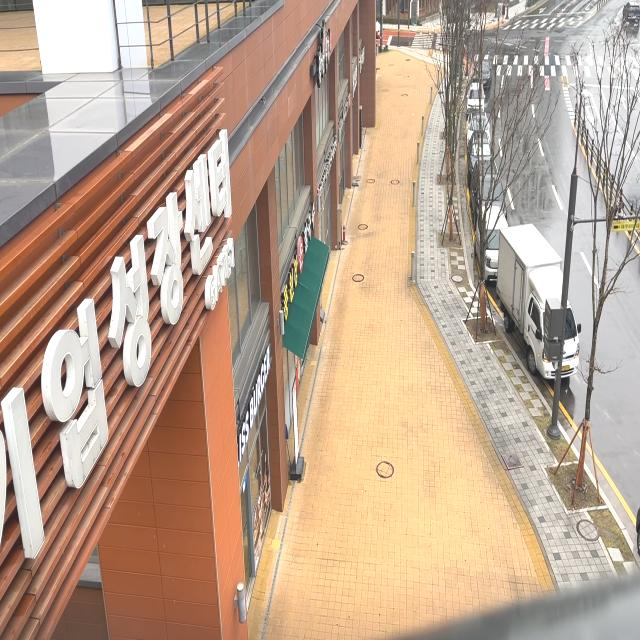Car: (472, 194, 523, 280), (466, 154, 514, 218), (464, 132, 502, 172), (464, 104, 493, 142), (474, 52, 496, 87), (614, 0, 640, 25), (467, 74, 486, 108)
Truck: (492, 214, 585, 389)
